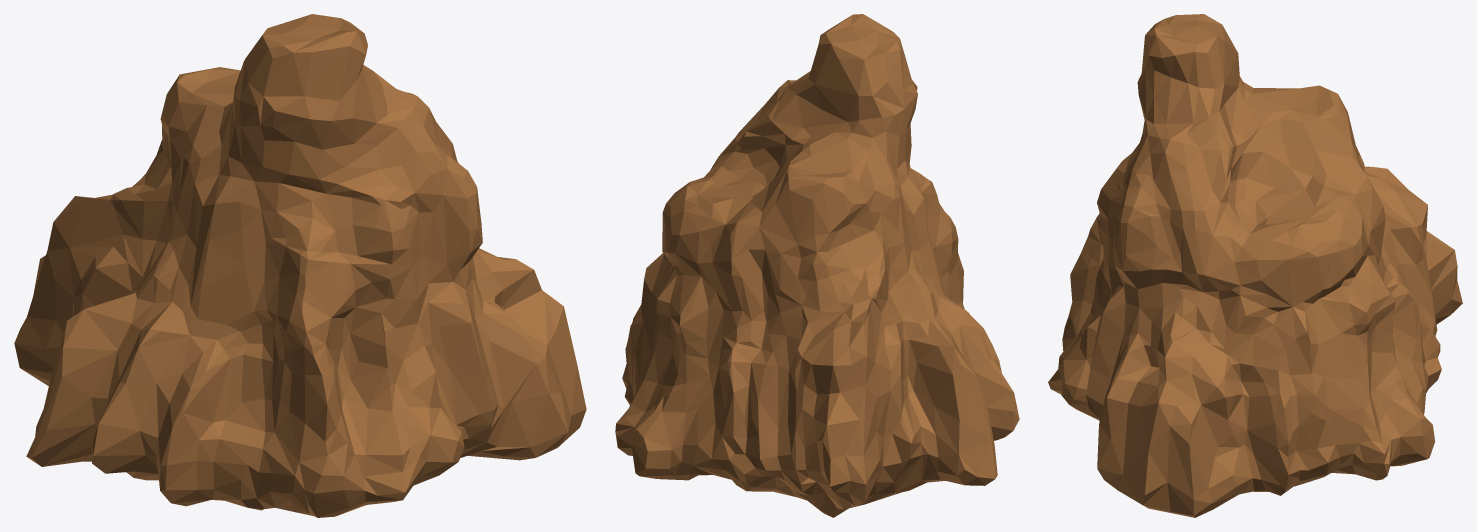
Rendered from desertMountain2.fbx.
The picture shows the model from 3 angles, left to right: view 1: azimuth 30°, elevation 25°; view 2: azimuth 150°, elevation 25°; view 3: azimuth 270°, elevation 25°; orthographic projection. The views are drawn at different scales.
Visible parts, largest first — view 1: Cube.005; view 2: Cube.005; view 3: Cube.005.
Boxes of the visible parts, x1,y1,x2,y2 form: Cube.005: [14, 14, 586, 517]; Cube.005: [615, 14, 1019, 517]; Cube.005: [1048, 14, 1462, 517].
Size of the model in its own units: 24.83 by 23.52 by 21.91.
